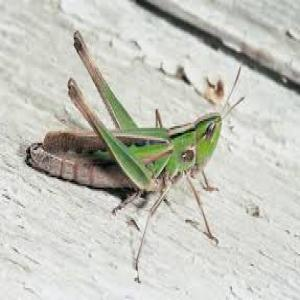locust: (26, 64, 250, 216)
